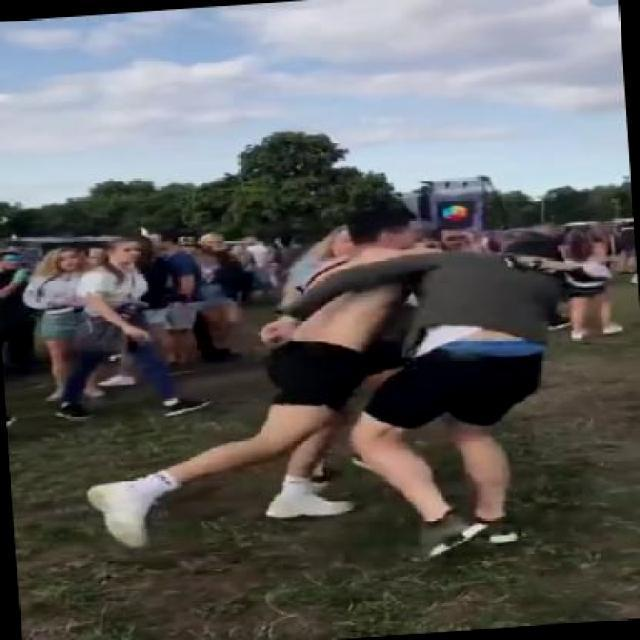fight: (233, 195, 572, 577)
